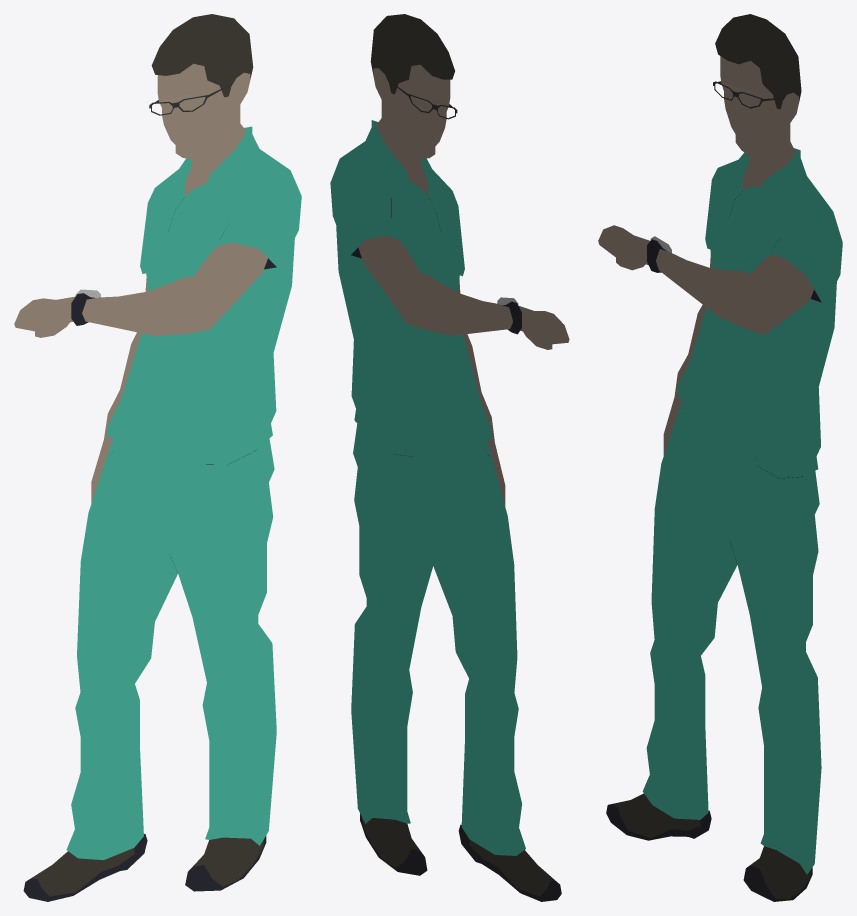
File: Tommy-scrubs.fbx
3 views of the same model, side by side, from view 1: azimuth 30°, elevation 25°; view 2: azimuth 150°, elevation 25°; view 3: azimuth 330°, elevation 25° (orthographic). The views are drawn at different scales.
Visible parts, largest first — view 1: Mesh01; view 2: Mesh01; view 3: Mesh01.
Part boxes in pixels (box(x1,y1,x2,y2)): Mesh01: box(14, 14, 301, 901); Mesh01: box(330, 14, 569, 901); Mesh01: box(598, 14, 842, 901).
Size of the model in its own units: 31.69 by 100 by 4.5.
